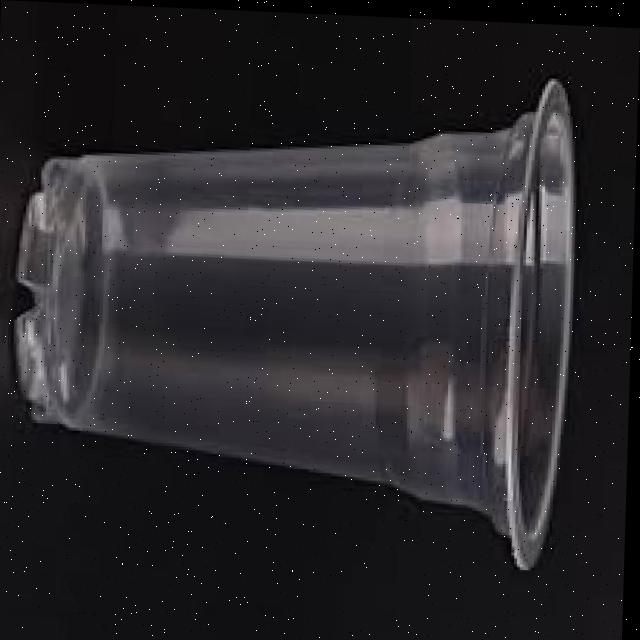cup: (0, 73, 616, 545)
